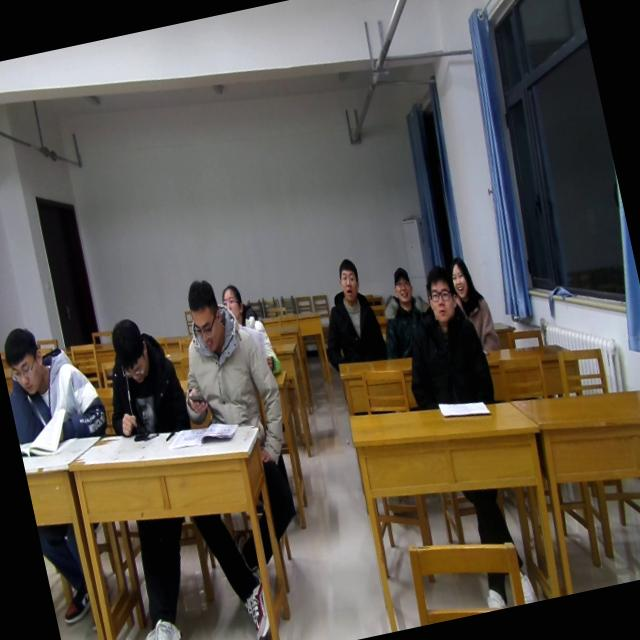bow: (0, 313, 112, 454)
down: (179, 272, 231, 358), (103, 307, 153, 389), (0, 322, 49, 404)
lookup: (417, 258, 460, 330), (443, 250, 477, 304), (334, 256, 364, 306), (388, 264, 418, 309), (217, 280, 249, 322)
sit: (158, 268, 287, 439), (388, 259, 497, 416), (90, 312, 190, 444), (307, 252, 388, 370), (217, 276, 283, 386), (443, 251, 503, 360), (373, 265, 437, 357)
